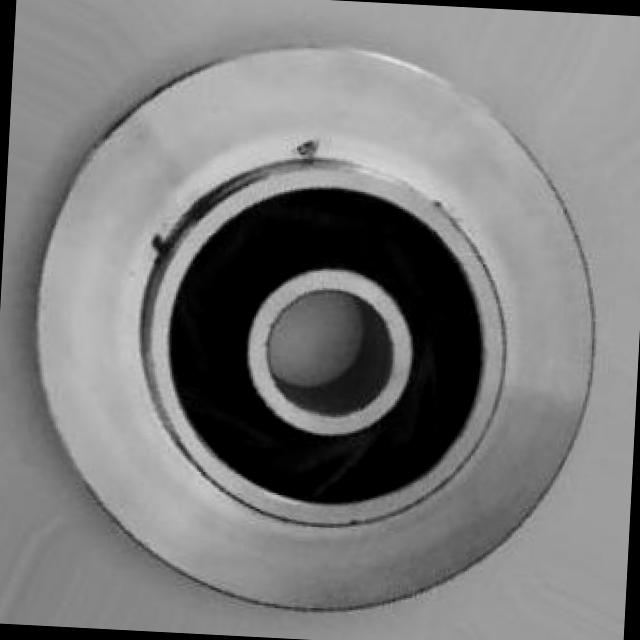Defect: (295, 131, 324, 167)
